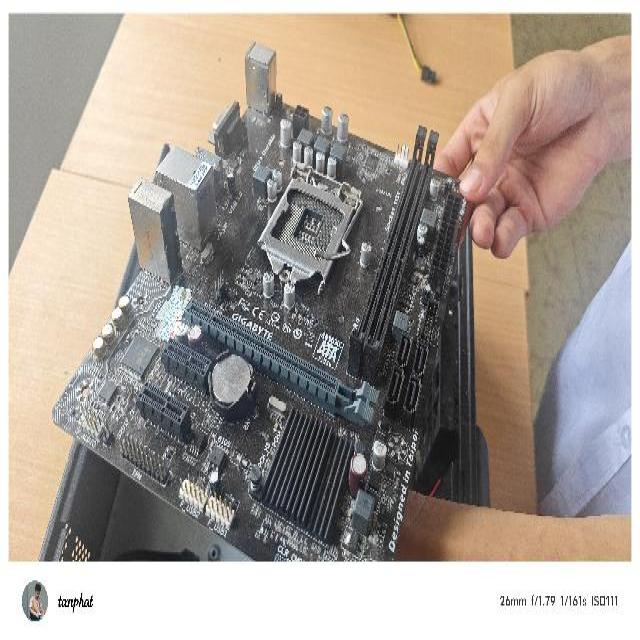Mainboard: (48, 31, 477, 562)
